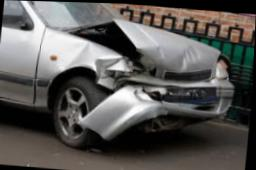Bonnet: (70, 15, 223, 80)
Bumper: (85, 83, 233, 137)
Fender: (43, 31, 109, 82)
Light: (105, 57, 148, 86)
